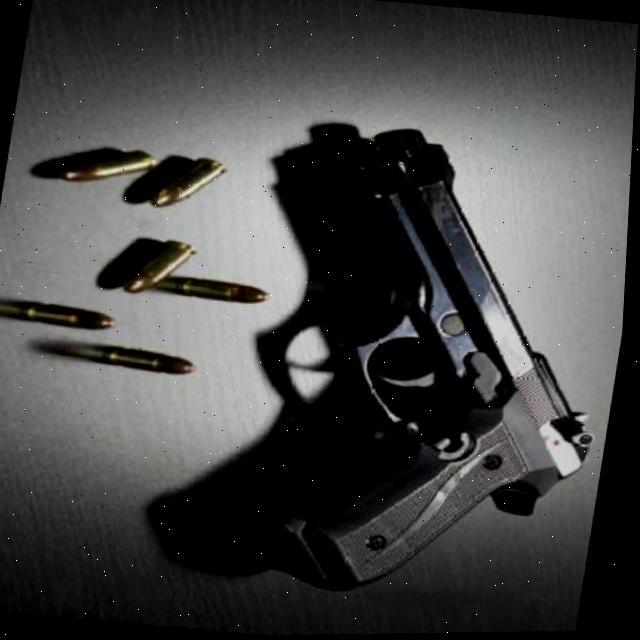gun: (154, 94, 636, 610)
